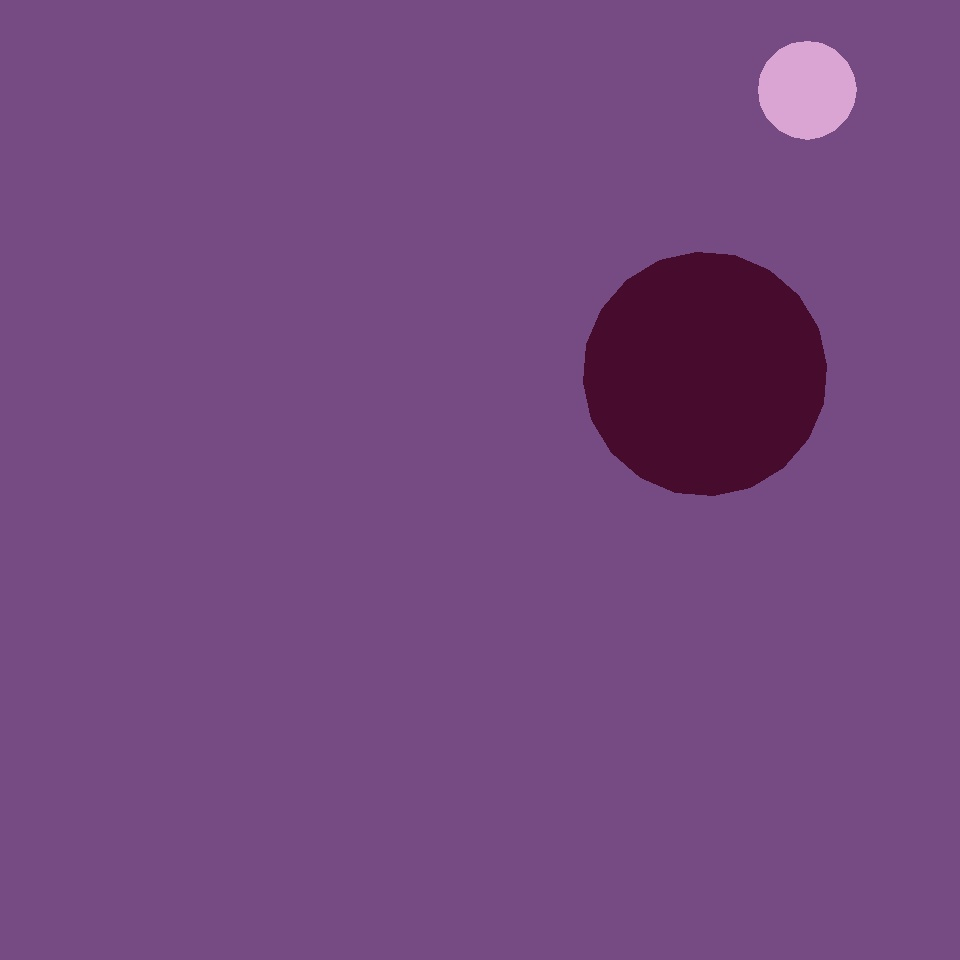triangle: (584, 253, 826, 496), (758, 41, 856, 139)
